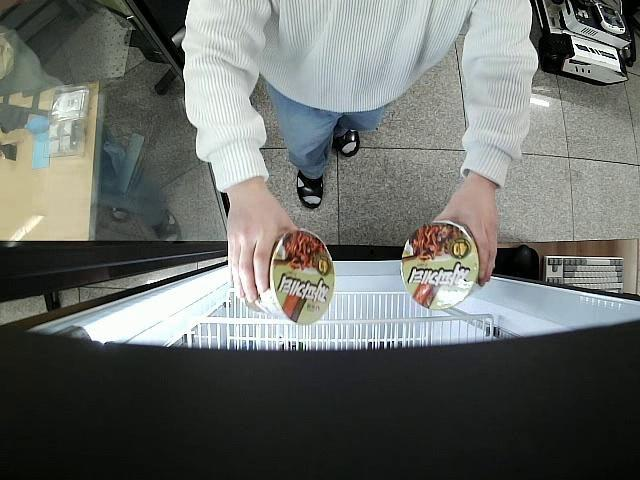03_chapagetti_L: (250, 230, 333, 327), (402, 219, 482, 310)
